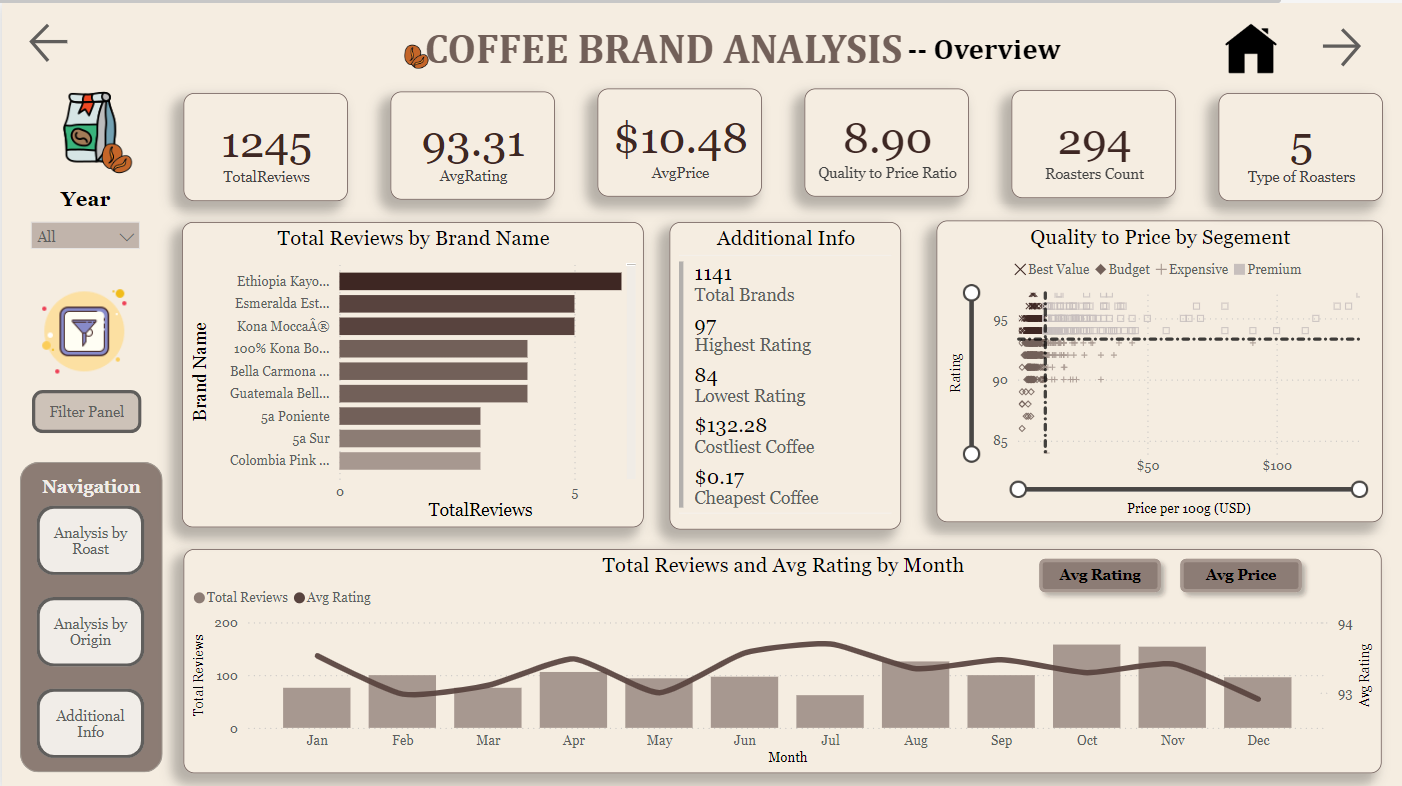

What the dashboard file says about the page in this screenshot:
{"tool":"powerbi","page":{"name":"Overview","canvas":[1280,720],"ordinal":1},"visuals":[{"type":"card","fields":{"Values":["Coffee Brands Review.TotalReviews"]},"box":[164.9,82.5,150.1,99],"z":0},{"type":"group","id":"g1","title":"Filters Panel","box":[70.6,107.8,93.3,70],"z":0,"group":"g2"},{"type":"lineClusteredColumnComboChart","title":"Total Reviews and Avg Price by Month","fields":{"Category":["Calendar.Month"],"Y":["Coffee Brands Review.TotalReviews"],"Y2":["Coffee Brands Review.AvgPrice"]},"box":[164.9,498.1,1096.9,204.5],"z":0,"group":"g3"},{"type":"shape","box":[154.4,197.6,228.7,335.1],"z":1000,"group":"g5"},{"type":"shape","box":[16.7,419.4,130.2,283.2],"z":1000},{"type":"image","box":[1109.9,7.6,59.1,68.1],"z":2000},{"type":"slicer","title":"Roaster Location","fields":{"Values":["Coffee Brands Review.Roaster Location (groups)","Coffee Brands Review.Roaster Location"]},"box":[184.6,213.4,169.7,83.4],"z":2000,"group":"g5"},{"type":"actionButton","box":[21.2,13.6,99.9,45.4],"z":4000},{"type":"card","fields":{"Values":["Coffee Brands Review.AvgPrice"]},"box":[543,77.5,150.1,99],"z":5000},{"type":"actionButton","box":[1199.3,18.2,62.1,45.4],"z":6000},{"type":"card","fields":{"Values":["Coffee Brands Review.TotalTYPEOFRoaster"]},"box":[1110.1,81.5,150.1,99],"z":7000},{"type":"slicer","title":"Origin Country","fields":{"Values":["Coffee Brands Review.Origin (groups)","Coffee Brands Review.Origin"]},"box":[184.6,424.9,169.7,92],"z":7000,"group":"g5"},{"type":"slicer","title":"Type of Roast","fields":{"Values":["Coffee Brands Review.Type of Roast"]},"box":[184.6,321.3,169.7,82],"z":8000,"group":"g5"},{"type":"scatterChart","title":"Quality to Price by Segement","fields":{"Y":["Coffee Brands Review.Rating"],"X":["Coffee Brands Review.Price per 100g (USD)"],"Series":["Coffee Brands Review.Coffee_Segment"]},"box":[852.8,197.9,407.4,275.5],"z":9000},{"type":"multiRowCard","title":"Additional Info","fields":{"Values":["Coffee Brands Review.TotalBrands","Coffee Brands Review.HighestRating","Coffee Brands Review.LowestRating","Coffee Brands Review.Highest Price","Coffee Brands Review.Lowest Price"]},"box":[609.8,199.9,211.4,280.4],"z":10000},{"type":"image","box":[27.3,68.1,106,89.3],"z":11000},{"type":"image","box":[80.3,116.6,46.9,50],"z":12000},{"type":"image","box":[354.3,28.8,46.9,39.4],"z":13000},{"type":"textbox","box":[354.3,13.6,498.2,54.5],"z":14000,"group":"g4"},{"type":"group","id":"g2","title":"ffilter pane","box":[70.6,107.8,93.3,70],"z":14000},{"type":"card","fields":{"Values":["Coffee Brands Review.Quality to Price Ratio"]},"box":[732,78.5,150.1,99],"z":15000},{"type":"card","fields":{"Values":["Coffee Brands Review.AvgRating"]},"box":[354,80.5,150.1,99],"z":16000},{"type":"group","id":"g3","title":"Price line chart group","box":[164.9,498.1,1096.9,204.5],"z":17000},{"type":"actionButton","box":[1066.8,498.8,128.7,48.5],"z":18000},{"type":"actionButton","box":[938.1,498.8,128.7,48.5],"z":19000},{"type":"card","fields":{"Values":["Coffee Brands Review.TotalRoasterLocation"]},"box":[921.1,79.5,150.1,99],"z":20000},{"type":"slicer","title":"Year","fields":{"Values":["Coffee Brands Review.Review Year"]},"box":[16.7,168.1,119.6,86.3],"z":21000},{"type":"image","box":[17.3,244.5,115,109.3],"z":22000},{"type":"actionButton","box":[27.3,352.8,99.9,39.4],"z":23000},{"type":"actionButton","box":[31.8,458.8,98.4,63.6],"z":24000},{"type":"actionButton","box":[31.8,542.1,98.4,63.6],"z":25000},{"type":"actionButton","box":[31.8,625.4,98.4,63.6],"z":26000},{"type":"textbox","box":[821,20.5,198.9,47.4],"z":27000,"group":"g4"},{"type":"textbox","box":[31.8,427,121.1,31.8],"z":27000},{"type":"group","id":"g4","title":"Group 1","box":[354.3,13.6,665.7,54.5],"z":28000},{"type":"image","box":[348.5,189,28.8,48.9],"z":31000,"group":"g5"},{"type":"group","id":"g5","title":"Filter Panel","box":[154.4,189,227.6,343.4],"z":31001}]}

Visuals, with their boxes in screenshot pixels (x1, y1, x2, y2), scaled from the page's 1280x720 canvas onto the 1402x786 screenshot:
card - Coffee Brands Review.TotalReviews: <region>181, 90, 345, 198</region>
"Filters Panel" group: <region>77, 118, 180, 194</region>
"Total Reviews and Avg Price by Month" lineClusteredColumnComboChart: <region>181, 544, 1382, 767</region>
shape: <region>169, 216, 420, 582</region>
shape: <region>18, 458, 161, 767</region>
image: <region>1216, 8, 1280, 83</region>
"Roaster Location" slicer: <region>202, 233, 388, 324</region>
actionButton: <region>23, 15, 133, 64</region>
card - Coffee Brands Review.AvgPrice: <region>595, 85, 759, 193</region>
actionButton: <region>1314, 20, 1382, 69</region>
card - Coffee Brands Review.TotalTYPEOFRoaster: <region>1216, 89, 1380, 197</region>
"Origin Country" slicer: <region>202, 464, 388, 564</region>
"Type of Roast" slicer: <region>202, 351, 388, 440</region>
"Quality to Price by Segement" scatterChart: <region>934, 216, 1380, 517</region>
"Additional Info" multiRowCard: <region>668, 218, 899, 524</region>
image: <region>30, 74, 146, 172</region>
image: <region>88, 127, 139, 182</region>
image: <region>388, 31, 439, 74</region>
textbox: <region>388, 15, 934, 74</region>
"ffilter pane" group: <region>77, 118, 180, 194</region>
card - Coffee Brands Review.Quality to Price Ratio: <region>802, 86, 966, 194</region>
card - Coffee Brands Review.AvgRating: <region>388, 88, 552, 196</region>
"Price line chart group" group: <region>181, 544, 1382, 767</region>
actionButton: <region>1168, 545, 1309, 597</region>
actionButton: <region>1028, 545, 1168, 597</region>
card - Coffee Brands Review.TotalRoasterLocation: <region>1009, 87, 1173, 195</region>
"Year" slicer: <region>18, 184, 149, 278</region>
image: <region>19, 267, 145, 386</region>
actionButton: <region>30, 385, 139, 428</region>
actionButton: <region>35, 501, 143, 570</region>
actionButton: <region>35, 592, 143, 661</region>
actionButton: <region>35, 683, 143, 752</region>
textbox: <region>899, 22, 1117, 74</region>
textbox: <region>35, 466, 167, 501</region>
"Group 1" group: <region>388, 15, 1117, 74</region>
image: <region>382, 206, 413, 260</region>
"Filter Panel" group: <region>169, 206, 418, 581</region>
